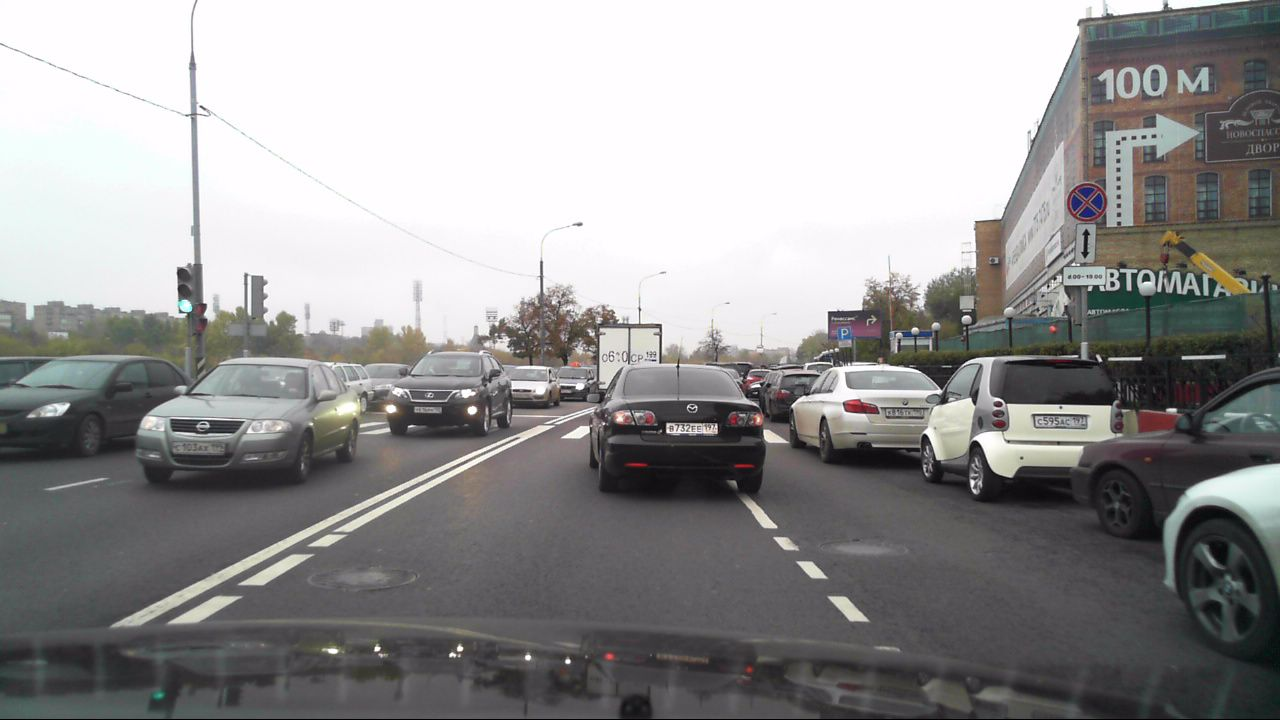No Parking: (1066, 179, 1106, 222)
